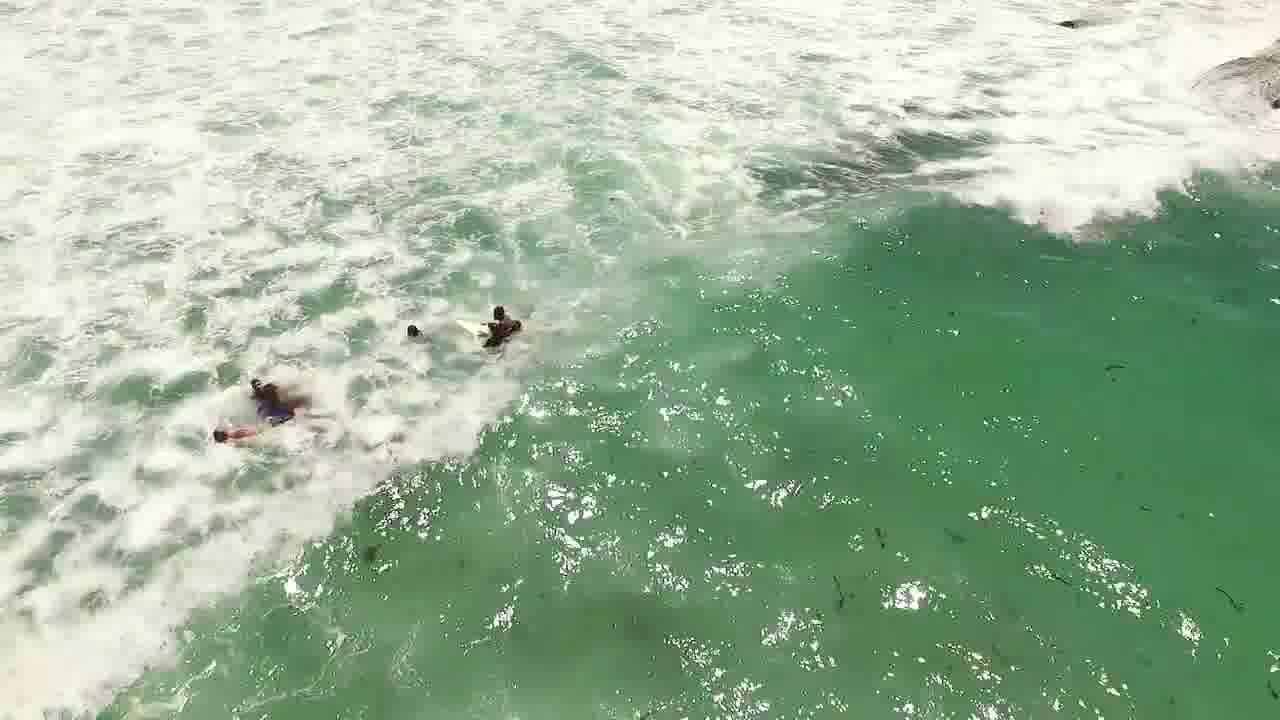swimmer: (203, 413, 285, 454), (217, 355, 283, 405), (473, 298, 531, 354), (261, 376, 315, 422), (386, 307, 434, 350)
